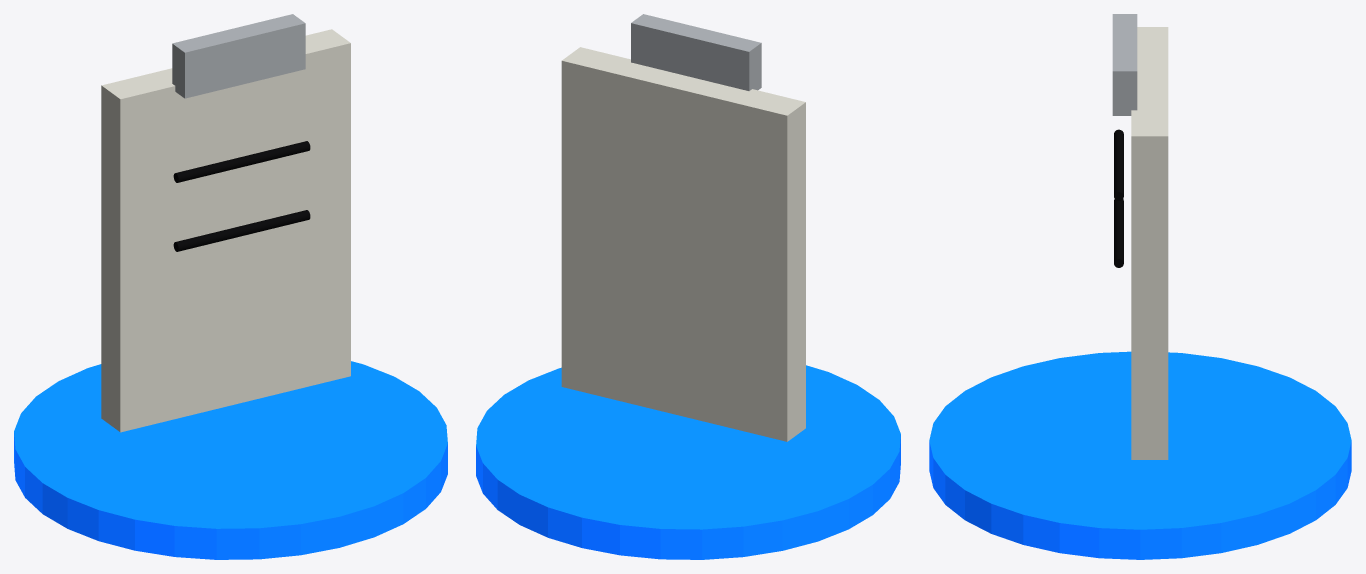
Rendered from news_news_clipboard.dae.
3 renders of one model, left to right at view 1: azimuth 30°, elevation 25°; view 2: azimuth 150°, elevation 25°; view 3: azimuth 270°, elevation 25°, orthographic. The views are drawn at different scales.
Parts seen in each view (by area): view 1: 09_20_Popular_News_News_Clipboard_part_01, 09_20_Popular_News_News_Clipboard_ROOT_base, 09_20_Popular_News_News_Clipboard_part_02, 09_20_Popular_News_News_Clipboard_part_04, 09_20_Popular_News_News_Clipboard_part_03; view 2: 09_20_Popular_News_News_Clipboard_part_01, 09_20_Popular_News_News_Clipboard_ROOT_base, 09_20_Popular_News_News_Clipboard_part_02; view 3: 09_20_Popular_News_News_Clipboard_ROOT_base, 09_20_Popular_News_News_Clipboard_part_01, 09_20_Popular_News_News_Clipboard_part_02, 09_20_Popular_News_News_Clipboard_part_03, 09_20_Popular_News_News_Clipboard_part_04.
Boxes of the visible parts, left/top/right/bottom form: 09_20_Popular_News_News_Clipboard_part_01: left=101, top=29, right=350, bottom=432; 09_20_Popular_News_News_Clipboard_ROOT_base: left=14, top=361, right=447, bottom=559; 09_20_Popular_News_News_Clipboard_part_02: left=172, top=14, right=305, bottom=98; 09_20_Popular_News_News_Clipboard_part_04: left=173, top=210, right=310, bottom=251; 09_20_Popular_News_News_Clipboard_part_03: left=173, top=141, right=310, bottom=182; 09_20_Popular_News_News_Clipboard_part_01: left=561, top=47, right=805, bottom=441; 09_20_Popular_News_News_Clipboard_ROOT_base: left=476, top=365, right=900, bottom=559; 09_20_Popular_News_News_Clipboard_part_02: left=631, top=14, right=761, bottom=90; 09_20_Popular_News_News_Clipboard_ROOT_base: left=929, top=351, right=1351, bottom=559; 09_20_Popular_News_News_Clipboard_part_01: left=1131, top=27, right=1168, bottom=459; 09_20_Popular_News_News_Clipboard_part_02: left=1112, top=14, right=1137, bottom=115; 09_20_Popular_News_News_Clipboard_part_03: left=1114, top=129, right=1123, bottom=200; 09_20_Popular_News_News_Clipboard_part_04: left=1114, top=199, right=1123, bottom=267.
Size of the model in its own units: 0.76 by 0.85 by 0.76.
